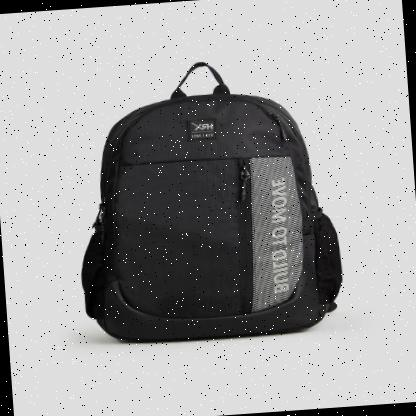bag: (62, 50, 352, 357)
